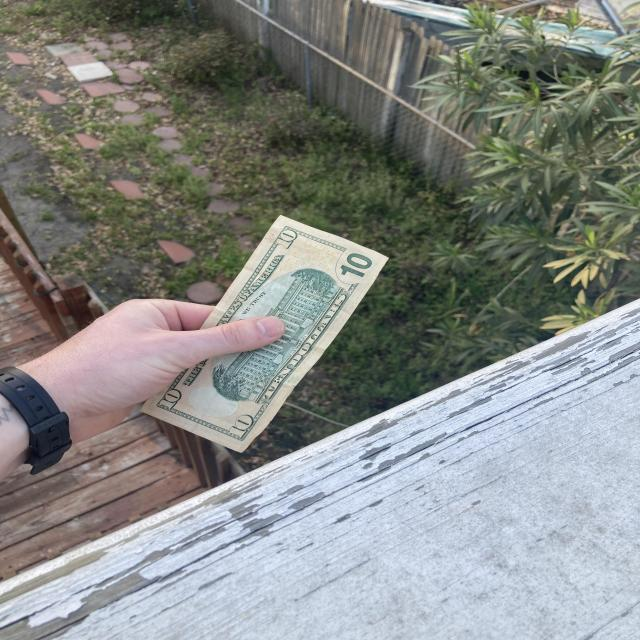ten: (139, 214, 389, 454)
